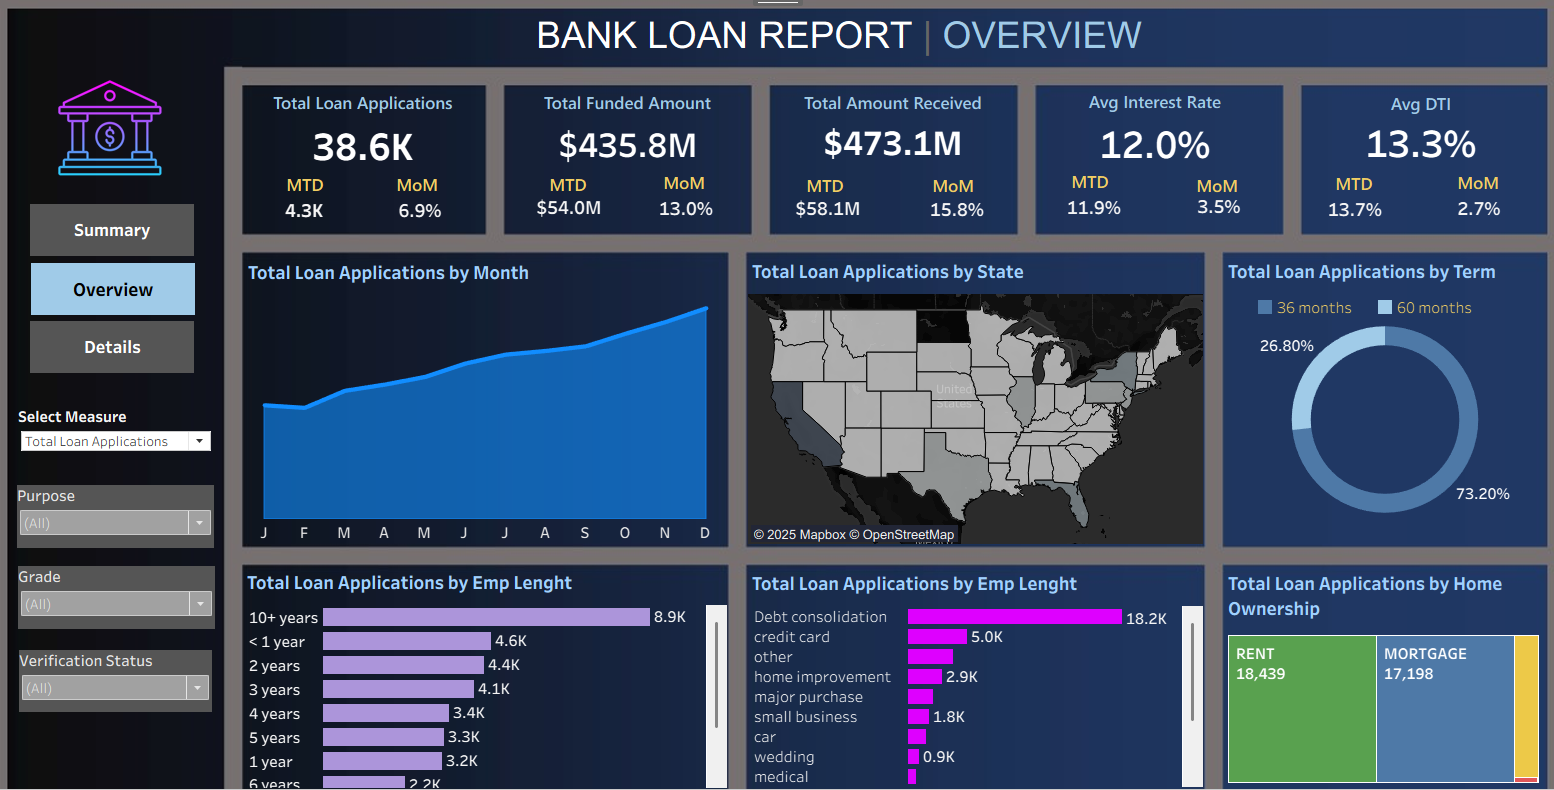

What the dashboard file says about the page in this screenshot:
{"tool":"tableau","page":{"name":"OVERVIEW","canvas":[1600,900],"ordinal":1},"visuals":[{"type":"image","param":"C:/Users/3dgar/Downloads/Project work/Tableau Background 2.jpg","box":[8,8,1584,884]},{"type":"text","box":[555,21,651,56]},{"type":"image","param":"C:/Users/3dgar/AppData/Local/Temp/TableauTemp/1h1voyq0rynau115wpqad0rpjkdg/Sheet","box":[70,78,123,126]},{"type":"worksheet","title":"Avg Interest Rate","mark":"Automatic","box":[1063,99,228,78]},{"type":"worksheet","title":"Total Loan Applications","mark":"Automatic","box":[267,100,236,77]},{"type":"worksheet","title":"Total Funded Amount","mark":"Automatic","box":[527,100,245,76]},{"type":"worksheet","title":"Total Amount Received","mark":"Automatic","box":[799,100,232,72]},{"type":"worksheet","title":"Avg DTI","mark":"Automatic","box":[1328,101,230,72]},{"type":"text","box":[415,180,71,34]},{"type":"text","box":[1090,180,49,28]},{"type":"text","box":[682,181,49,28]},{"type":"text","box":[1476,181,49,28]},{"type":"text","box":[277,182,100,30]},{"type":"text","box":[564,182,52,30]},{"type":"text","box":[1354,182,49,28]},{"type":"text","box":[797,183,100,30]},{"type":"text","box":[951,184,49,28]},{"type":"text","box":[1215,184,49,28]},{"type":"worksheet","title":"MoM Total Funded Amount","mark":"Automatic","box":[649,198,117,46]},{"type":"worksheet","title":"MoM Total Amount Received","mark":"Automatic","box":[943,199,72,46]},{"type":"worksheet","title":"MoM Avg INT Rate","mark":"Automatic","box":[1212,199,58,40]},{"type":"worksheet","title":"MTD Total Funded Amount","mark":"Automatic","box":[539,200,104,40]},{"type":"worksheet","title":"MTD Loan Applications","mark":"Automatic","box":[265,202,122,41]},{"type":"worksheet","title":"MTD Total Amount Received","mark":"Automatic","box":[811,202,78,37]},{"type":"worksheet","title":"MoM Avg DTI","mark":"Automatic","box":[1470,202,63,38]},{"type":"worksheet","title":"MTD Avg INT Rate","mark":"Automatic","box":[1085,203,62,33]},{"type":"worksheet","title":"MTD Avg DTI","mark":"Automatic","box":[1340,203,74,37]},{"type":"worksheet","title":"MoM Total Loan Application","mark":"Automatic","box":[400,204,84,38]},{"type":"dashboard-object","box":[52,217,164,52]},{"type":"worksheet","title":"State","mark":"Multipolygon","box":[770,267,455,290]},{"type":"worksheet","title":"Term","mark":"Pie","rows":["Calculation_155655676797624321","Calculation_155655676797669379"],"box":[1246,267,322,291]},{"type":"worksheet","title":"Month","mark":"Automatic","rows":["Calculation_851461819206721536","Calculation_851461819206721536"],"cols":["issue_date"],"box":[266,268,482,289]},{"type":"dashboard-object","box":[53,276,164,52]},{"type":"legend","title":"Term","param":"[federated.0c57ips00t71io10baioe06lgg3n].[none:term:nk]","box":[1277,310,269,19]},{"type":"dashboard-object","box":[52,334,164,52]},{"type":"parameter","param":"[Parameters].[Parameter 1]","box":[40,419,196,60]},{"type":"filter","title":"Avg DTI","param":"[federated.0c57ips00t71io10baioe06lgg3n].[none:purpose:nk]","box":[39,498,197,63]},{"type":"worksheet","title":"Emp Lenght ","mark":"Automatic","rows":["emp_length"],"cols":["Calculation_851461819206721536"],"box":[265,578,484,223]},{"type":"filter","title":"Avg DTI","param":"[federated.0c57ips00t71io10baioe06lgg3n].[none:grade:nk]","box":[40,579,197,63]},{"type":"worksheet","title":"Purpose","mark":"Automatic","rows":["purpose"],"cols":["Calculation_851461819206721536"],"box":[770,579,455,221]},{"type":"worksheet","title":"Home Own","mark":"Automatic","box":[1246,579,322,220]},{"type":"filter","title":"Avg DTI","param":"[federated.0c57ips00t71io10baioe06lgg3n].[none:verification_status:nk]","box":[41,663,193,62]}]}

Visuals, with their boxes on the page's 1600x900 design canvas (x1, y1, x2, y2). These are canvas units, not pixel positions in the 1554x790 screenshot, which may show the page scaled, cropped or inside an application window:
image: <region>8, 8, 1592, 892</region>
text: <region>555, 21, 1206, 77</region>
image: <region>70, 78, 193, 204</region>
"Avg Interest Rate" worksheet: <region>1063, 99, 1291, 177</region>
"Total Loan Applications" worksheet: <region>267, 100, 503, 177</region>
"Total Funded Amount" worksheet: <region>527, 100, 772, 176</region>
"Total Amount Received" worksheet: <region>799, 100, 1031, 172</region>
"Avg DTI" worksheet: <region>1328, 101, 1558, 173</region>
text: <region>415, 180, 486, 214</region>
text: <region>1090, 180, 1139, 208</region>
text: <region>682, 181, 731, 209</region>
text: <region>1476, 181, 1525, 209</region>
text: <region>277, 182, 377, 212</region>
text: <region>564, 182, 616, 212</region>
text: <region>1354, 182, 1403, 210</region>
text: <region>797, 183, 897, 213</region>
text: <region>951, 184, 1000, 212</region>
text: <region>1215, 184, 1264, 212</region>
"MoM Total Funded Amount" worksheet: <region>649, 198, 766, 244</region>
"MoM Total Amount Received" worksheet: <region>943, 199, 1015, 245</region>
"MoM Avg INT Rate" worksheet: <region>1212, 199, 1270, 239</region>
"MTD Total Funded Amount" worksheet: <region>539, 200, 643, 240</region>
"MTD Loan Applications" worksheet: <region>265, 202, 387, 243</region>
"MTD Total Amount Received" worksheet: <region>811, 202, 889, 239</region>
"MoM Avg DTI" worksheet: <region>1470, 202, 1533, 240</region>
"MTD Avg INT Rate" worksheet: <region>1085, 203, 1147, 236</region>
"MTD Avg DTI" worksheet: <region>1340, 203, 1414, 240</region>
"MoM Total Loan Application" worksheet: <region>400, 204, 484, 242</region>
dashboard-object: <region>52, 217, 216, 269</region>
"State" worksheet (Multipolygon marks): <region>770, 267, 1225, 557</region>
"Term" worksheet (Pie marks): <region>1246, 267, 1568, 558</region>
"Month" worksheet: <region>266, 268, 748, 557</region>
dashboard-object: <region>53, 276, 217, 328</region>
"Term" legend: <region>1277, 310, 1546, 329</region>
dashboard-object: <region>52, 334, 216, 386</region>
parameter: <region>40, 419, 236, 479</region>
"Avg DTI" filter: <region>39, 498, 236, 561</region>
"Emp Lenght " worksheet: <region>265, 578, 749, 801</region>
"Avg DTI" filter: <region>40, 579, 237, 642</region>
"Purpose" worksheet: <region>770, 579, 1225, 800</region>
"Home Own" worksheet: <region>1246, 579, 1568, 799</region>
"Avg DTI" filter: <region>41, 663, 234, 725</region>
